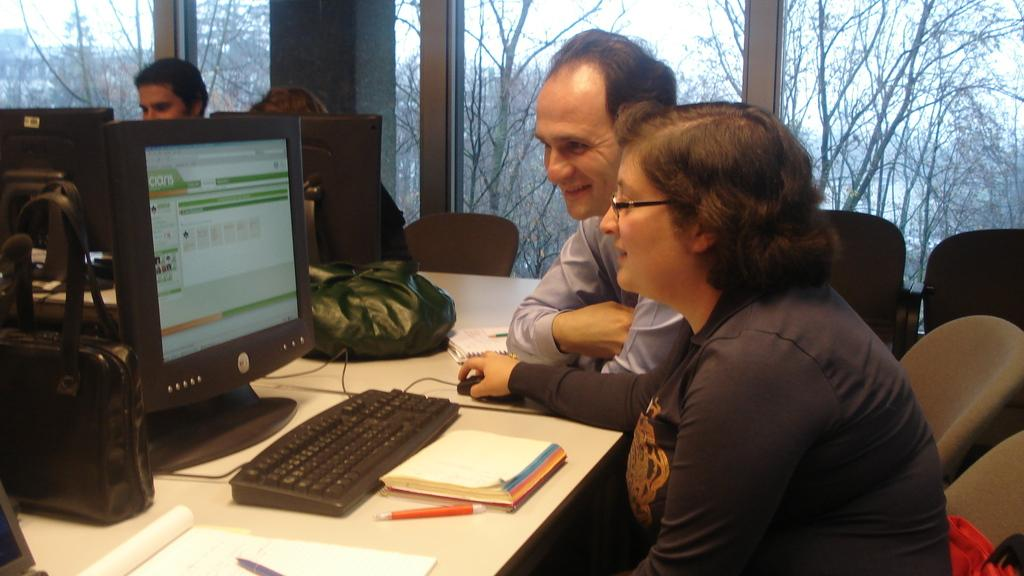Computer-keyboard: (152, 387, 461, 517)
Computer-monitor: (85, 109, 341, 483), (185, 104, 383, 300), (0, 99, 131, 337)
